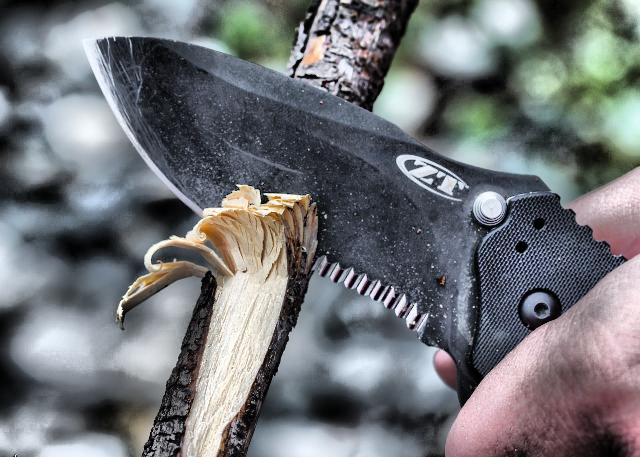knife: (66, 22, 640, 414)
